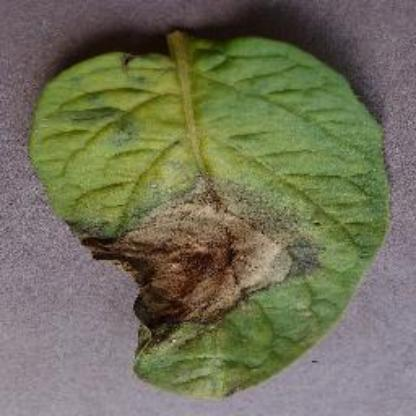Late-Blight: (27, 23, 392, 400)
